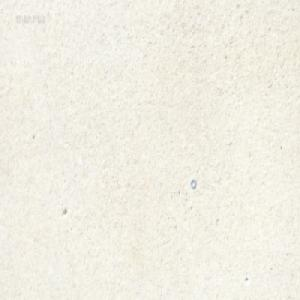Washer: (190, 178, 196, 189)
